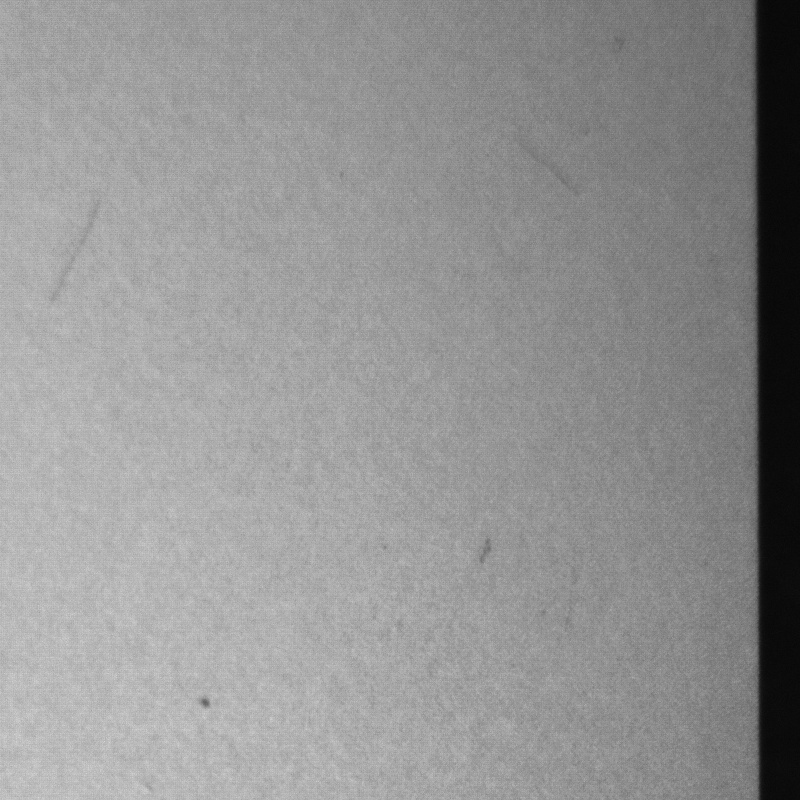defect: (45, 197, 102, 306), (519, 138, 591, 206), (192, 695, 223, 714), (478, 534, 491, 566), (613, 34, 627, 58)
